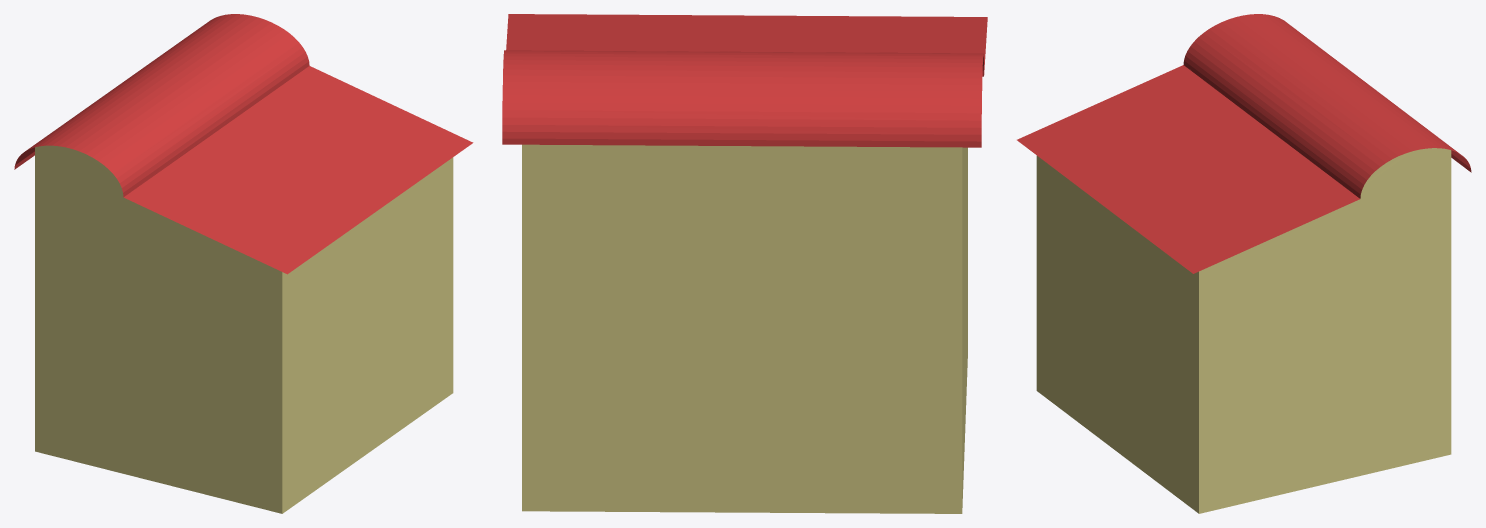
3 views of the same model, side by side, from view 1: azimuth 30°, elevation 25°; view 2: azimuth 150°, elevation 25°; view 3: azimuth 270°, elevation 25° (orthographic). The views are drawn at different scales.
Size of the model in its own units: 7.98 by 7.69 by 5.96.
